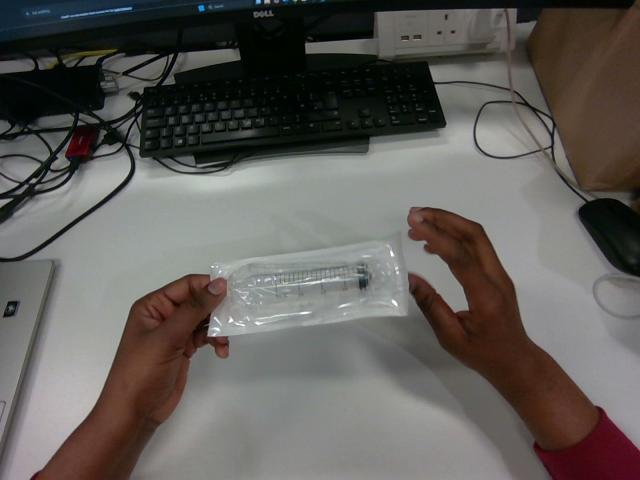syringe: (208, 236, 408, 335)
